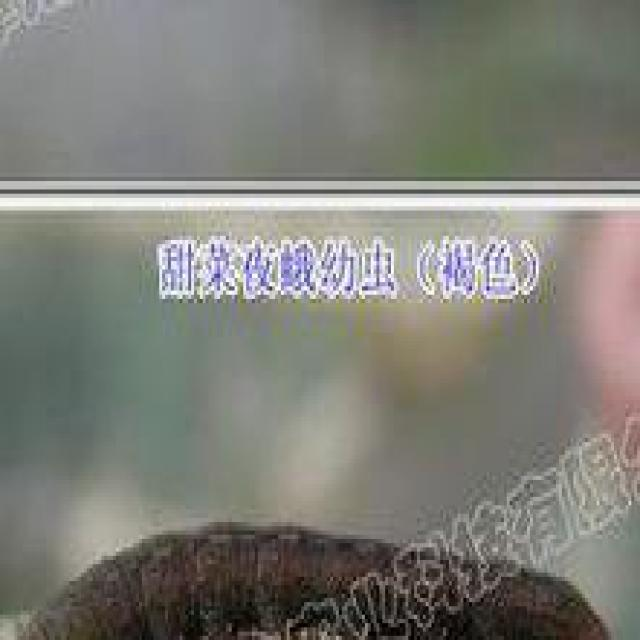armyworm: (11, 519, 616, 640)
